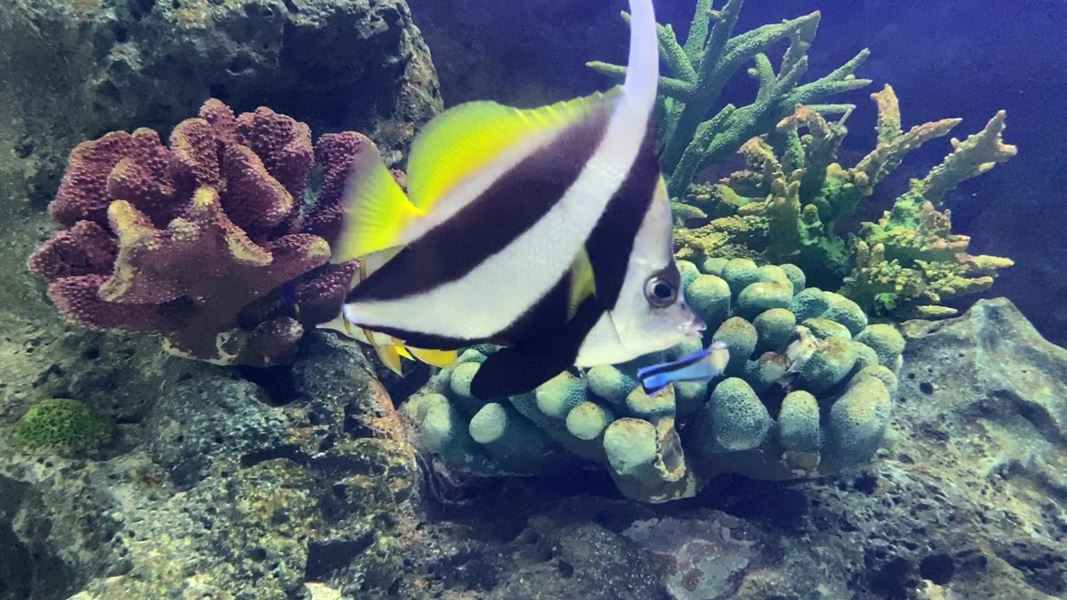Bluesteak cleaner wrasse: (630, 329, 752, 404)
